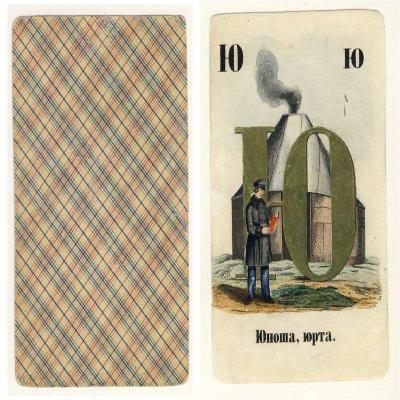graphics: (209, 9, 390, 385), (12, 15, 190, 389)
